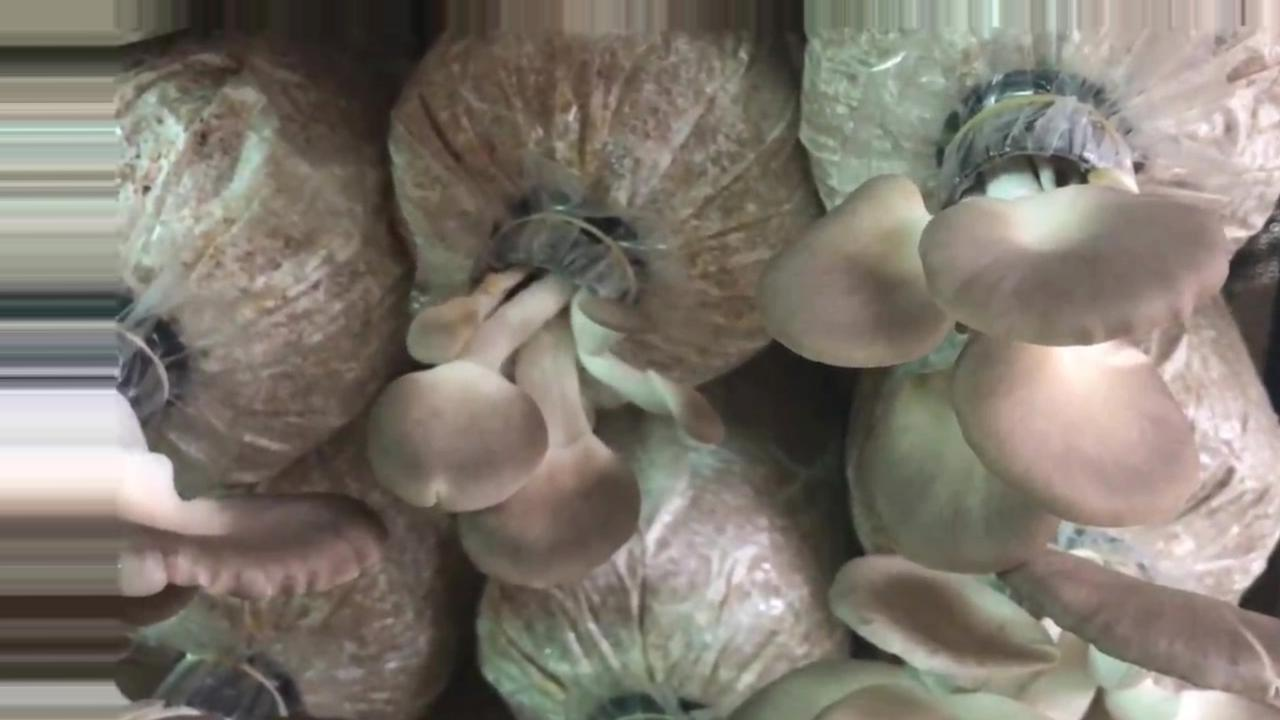nam: (780, 88, 1200, 567), (367, 193, 727, 593), (738, 556, 1280, 717), (120, 491, 373, 596)
